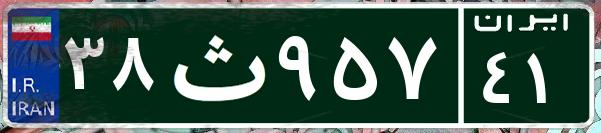1: (525, 38, 570, 115)
3: (57, 26, 110, 107)
4: (475, 38, 525, 113)
5: (330, 28, 385, 110)
7: (385, 28, 445, 110)
8: (110, 28, 158, 105)
9: (273, 28, 330, 110)
ث: (158, 15, 273, 115)
